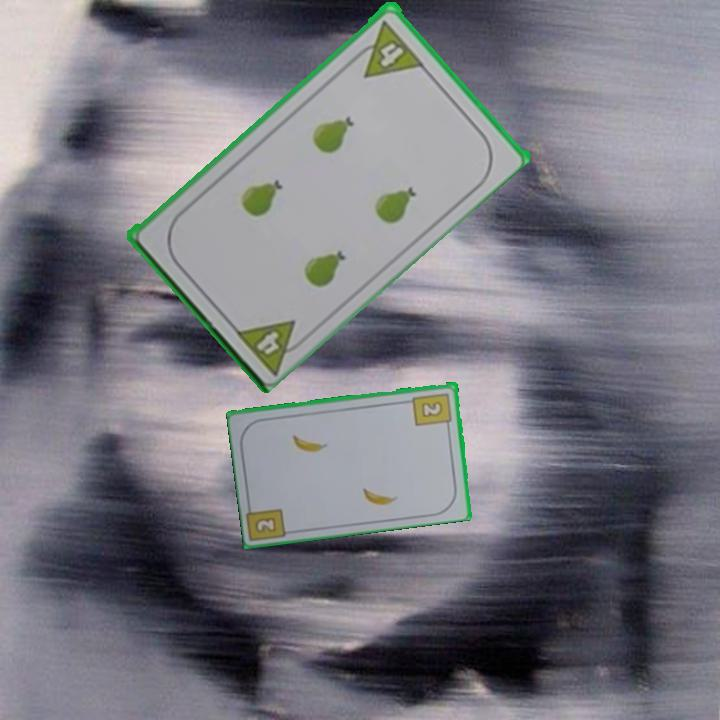2b: (410, 389, 455, 431), (254, 515, 277, 534)
4p: (230, 315, 312, 377), (348, 16, 426, 80)
